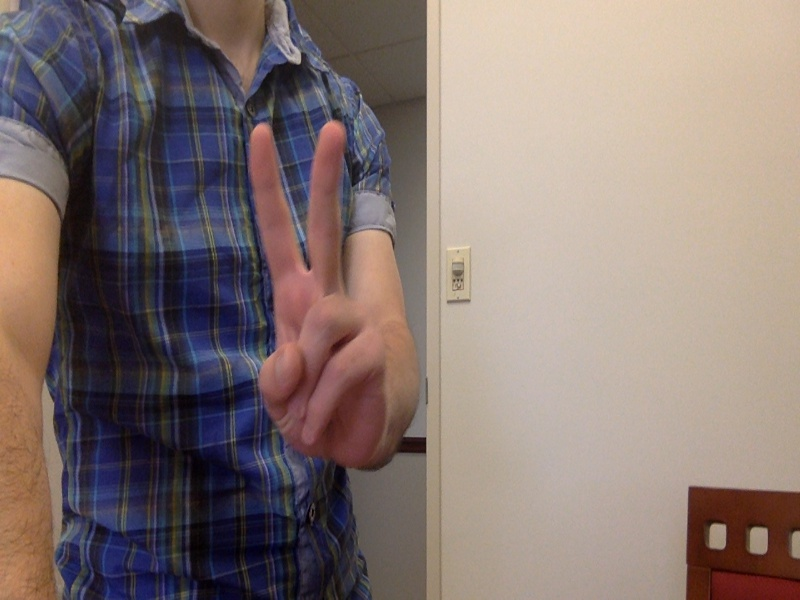2-hand: (248, 118, 376, 474)
